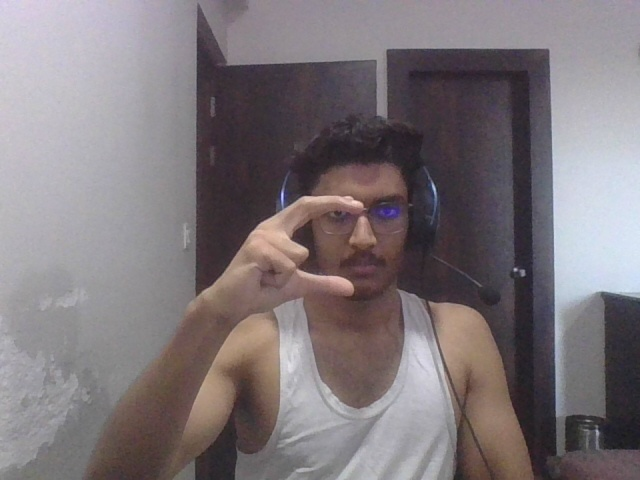No: (217, 184, 366, 324)
